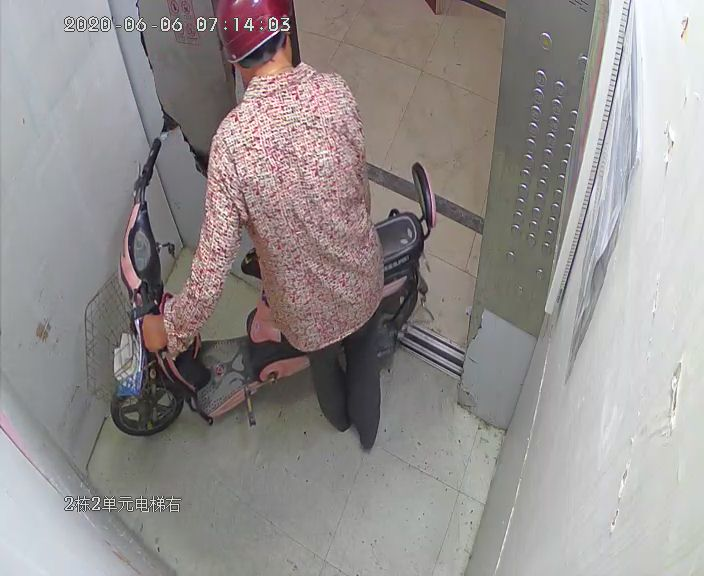Electric-bicycle: (80, 135, 437, 436)
